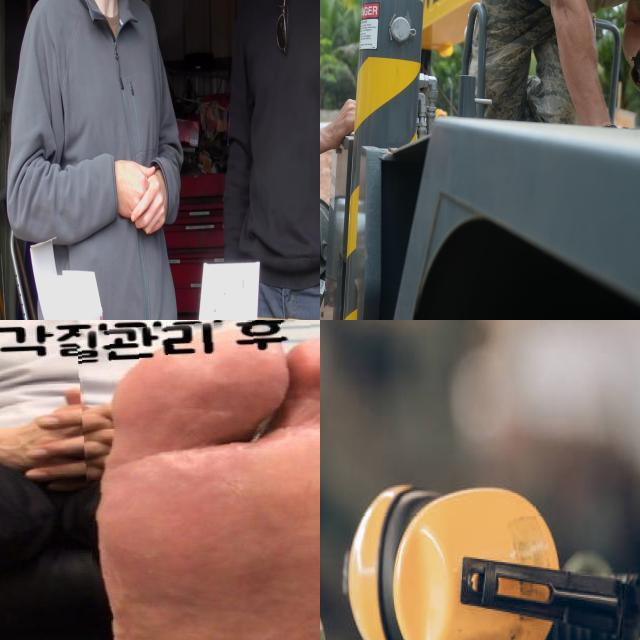Barefoots: (83, 321, 320, 640)
Ear-protection: (335, 475, 640, 640)
hand_noglove: (115, 161, 168, 234)
